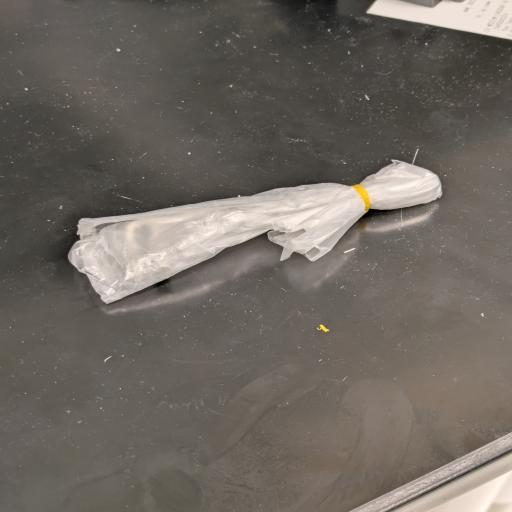rubberband: (61, 160, 447, 307)
